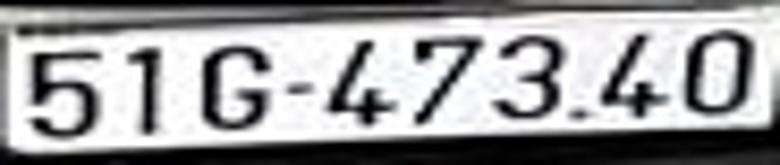-: (284, 82, 313, 95)
.: (570, 107, 589, 118)
0: (686, 28, 749, 115)
1: (126, 46, 164, 135)
3: (490, 34, 562, 119)
4: (326, 38, 393, 129), (601, 32, 668, 121)
5: (31, 52, 102, 137)
7: (413, 37, 481, 121)
G: (199, 43, 264, 130)
